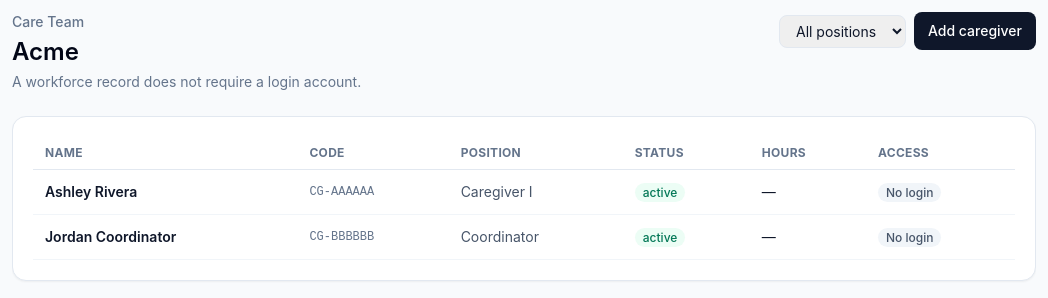
Test: CareTeamPage › filters the roster by position
This screenshot has width=1048, height=298.
Expected: the link "Ashley Rivera" is shown, [45, 183, 137, 200]
Expected: the link "Jordan Coordinator" is shown, [45, 228, 176, 245]
Select "Coordinator" in the dropdown named "Filter by position" at (842, 31), box [779, 14, 906, 48]
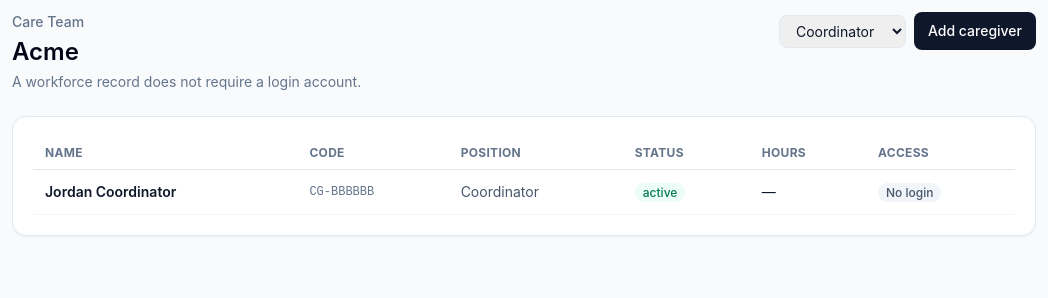
Expected: the link "Jordan Coordinator" is shown, [45, 183, 176, 200]
Expected: the link "Ashley Rivera" is gone
